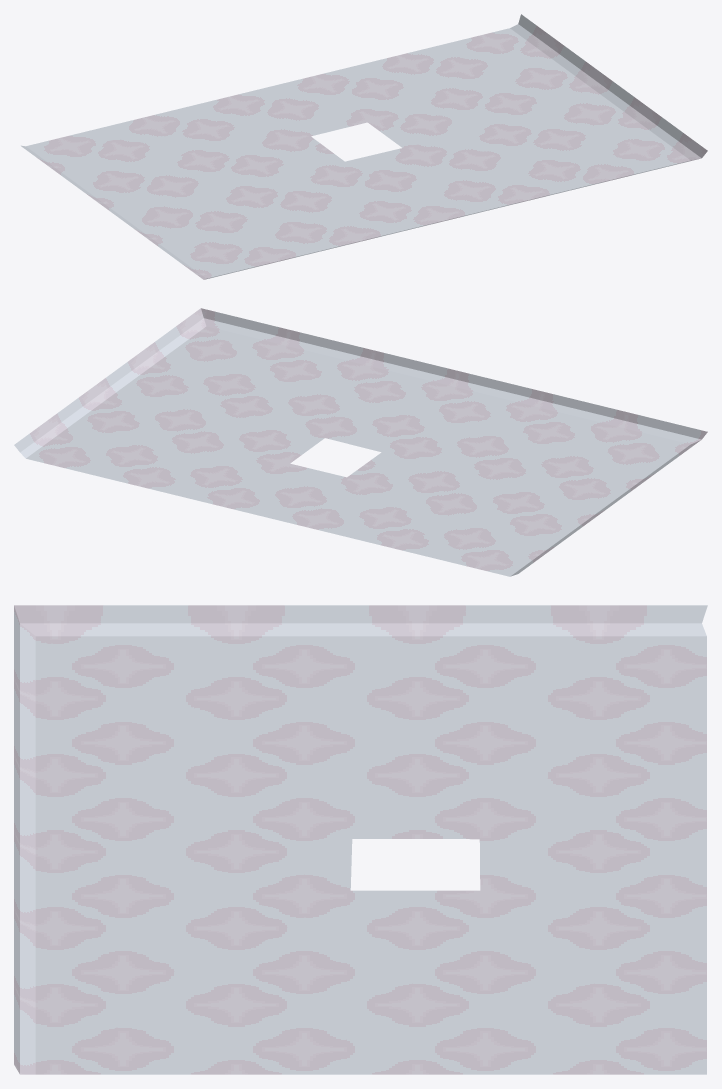
The model's file is kd_stage_135c43_4_56.glb.
3 renders of one model, top to bottom at view 1: azimuth 30°, elevation 25°; view 2: azimuth 150°, elevation 25°; view 3: azimuth 270°, elevation 25°, orthographic. The views are drawn at different scales.
Parts seen in each view (by area): view 1: kd_stage_135c43_4_56; view 2: kd_stage_135c43_4_56; view 3: kd_stage_135c43_4_56.
Part boxes in pixels (x1,y1,x2,y2): kd_stage_135c43_4_56: (21, 14, 707, 279); kd_stage_135c43_4_56: (14, 308, 707, 576); kd_stage_135c43_4_56: (14, 605, 707, 1074).
Bounding box in the file's own units: 1.06 × 0.0222 × 0.6749.
Materials: 1 (1 with a texture image).
